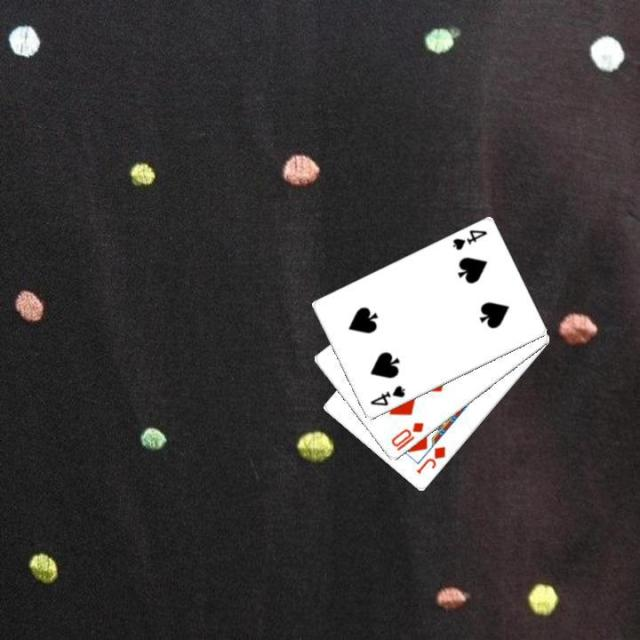10D: (388, 419, 426, 453)
4S: (366, 382, 406, 408), (449, 226, 489, 252)
JD: (412, 442, 448, 477)
